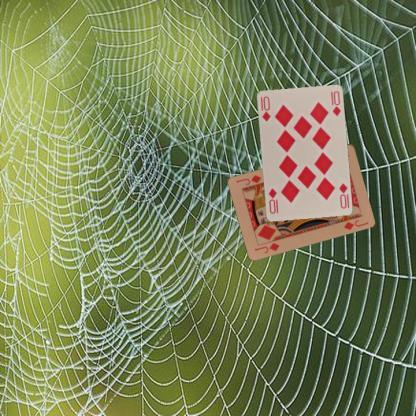10d: (258, 94, 272, 122), (336, 180, 348, 210)
Jd: (252, 240, 281, 254)
